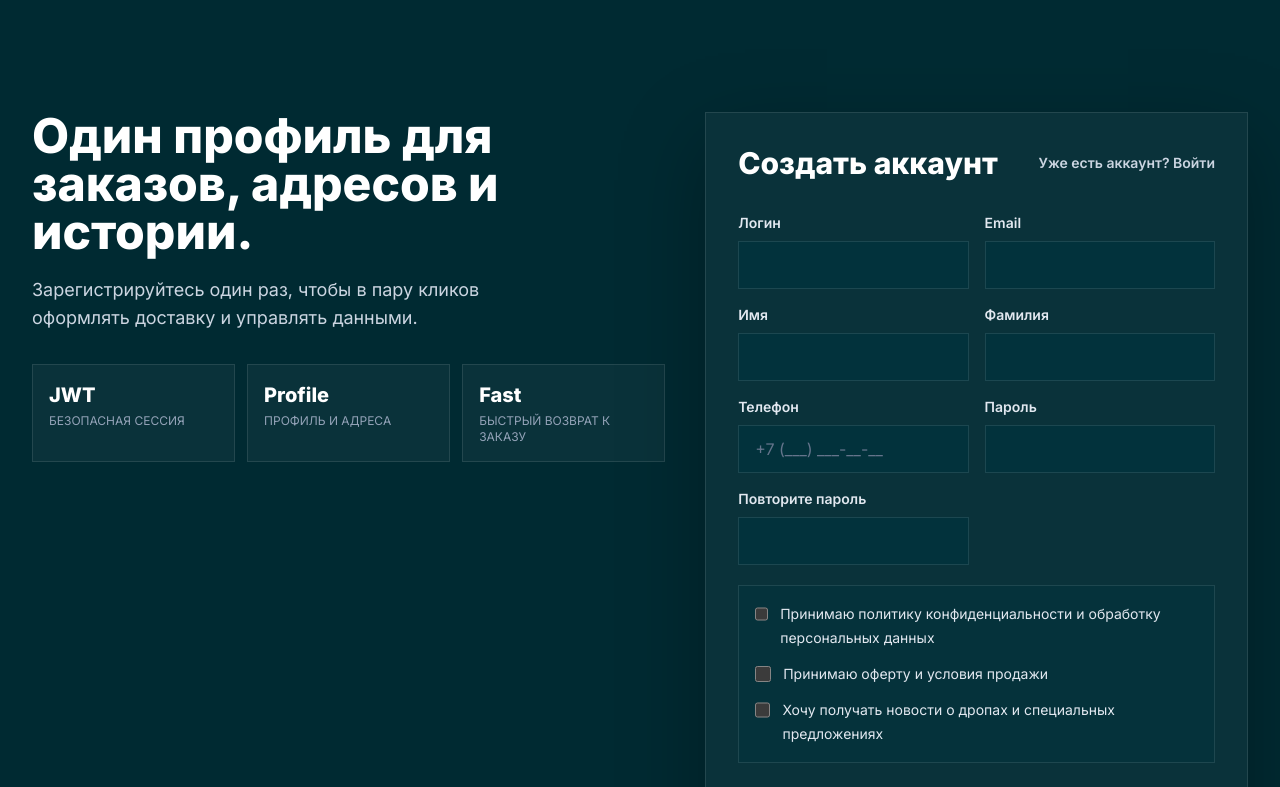
Test case: AuthPage › deletes previous phone digit when backspacing over mask characters
Type "332" into the field named "phone". click: x=853, y=449
box: [738, 425, 969, 473]
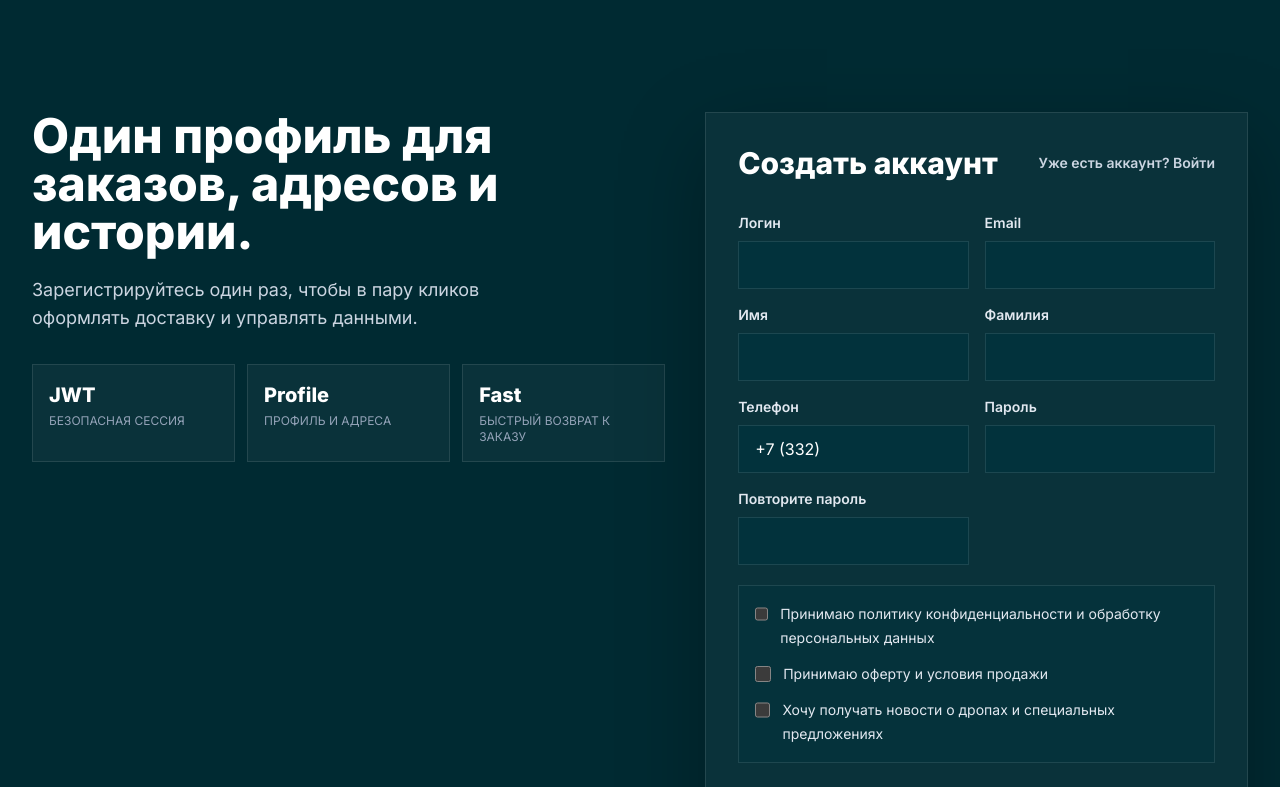
Press Backspace in the field named "phone", box [738, 425, 969, 473]
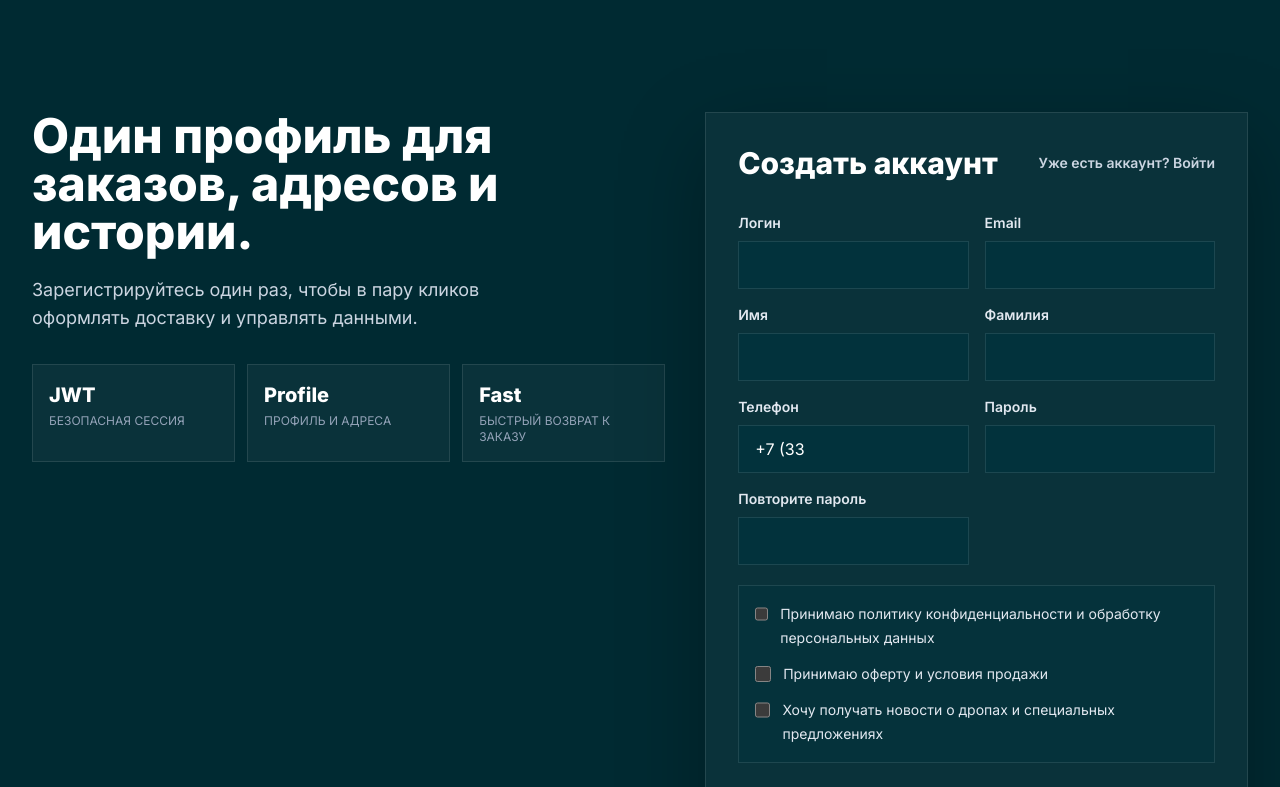
Expected: the field named "phone" holds "+7 (33", [738, 425, 969, 473]
